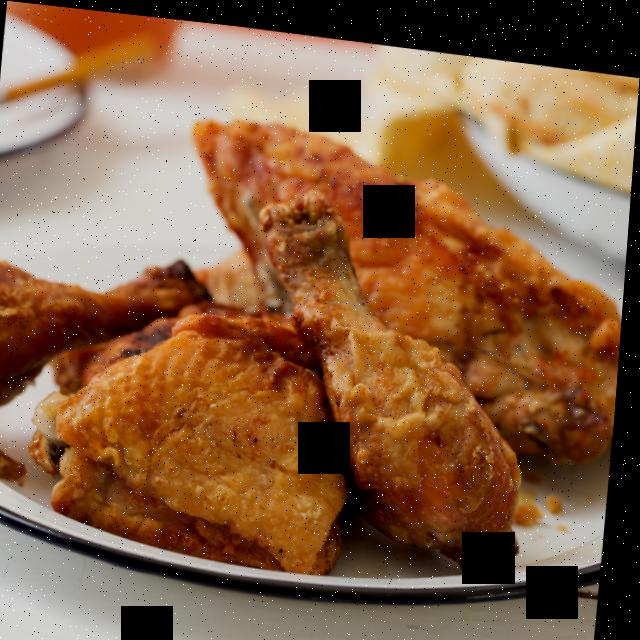Frango: (0, 78, 635, 599)
